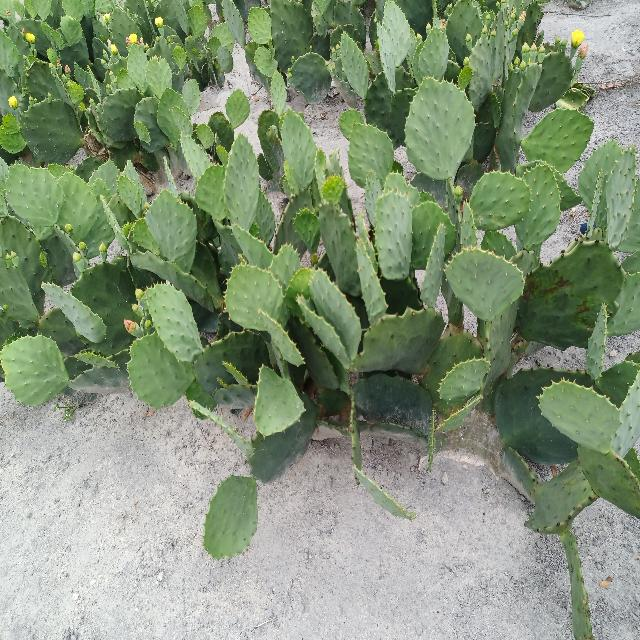adequadas para corte: (186, 163, 323, 511), (346, 85, 480, 381), (467, 194, 587, 456), (312, 385, 428, 638), (454, 416, 566, 602), (0, 325, 77, 533)
inadequadas para corte: (82, 166, 178, 343), (123, 380, 182, 638), (13, 130, 98, 271), (433, 204, 500, 349), (293, 0, 343, 78), (246, 0, 290, 76), (65, 3, 96, 106), (258, 124, 284, 162)
